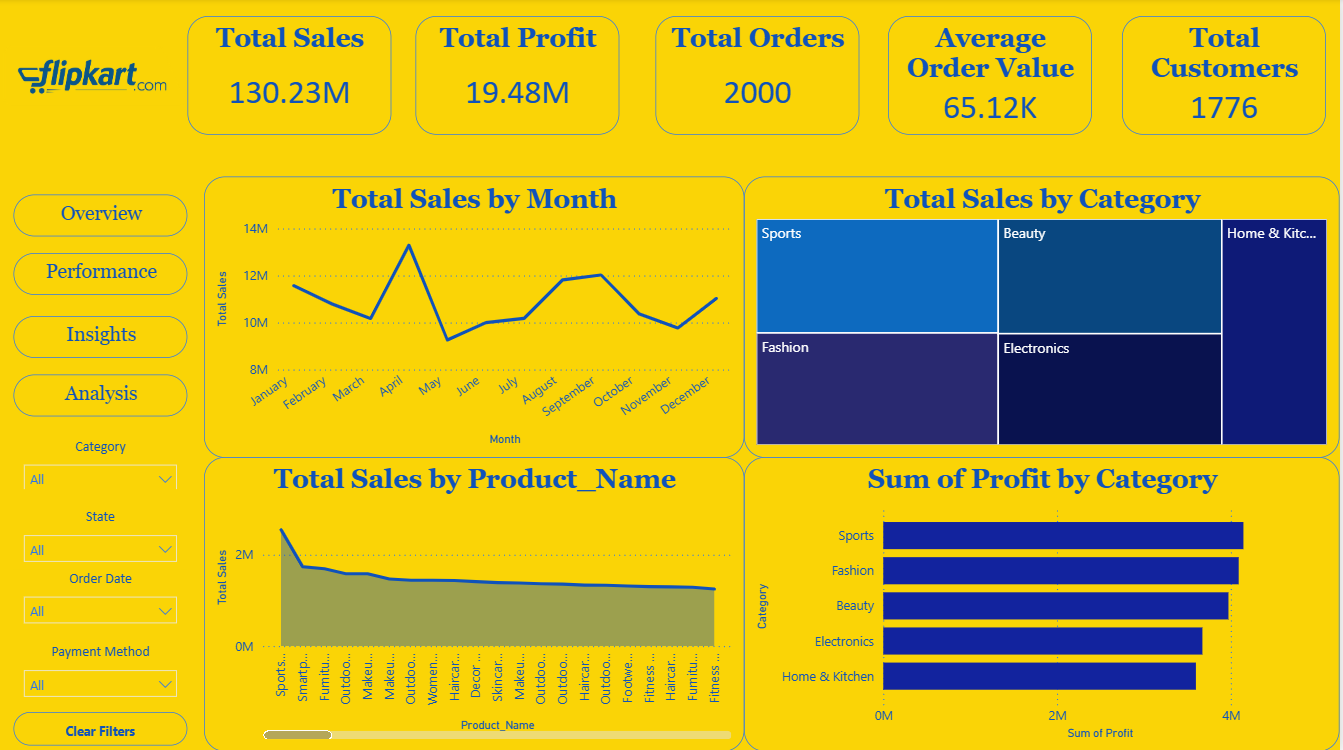

The page's visual inventory and layout, read from the dashboard file:
{"tool":"powerbi","page":{"name":"Overview","canvas":[1280,720],"ordinal":0},"visuals":[{"type":"card","title":"Total Sales","fields":{"Values":["Flipkart_Data.Total Sales"]},"box":[179.5,17,194.6,113.4],"z":0},{"type":"card","title":"Total Profit","fields":{"Values":["Flipkart_Data.Total Profit"]},"box":[396.9,17,194.6,113.4],"z":1000},{"type":"card","title":"Total Orders","fields":{"Values":["Flipkart_Data.Total Orders"]},"box":[625.5,17,194.6,113.4],"z":2000},{"type":"card","title":"Average Order Value","fields":{"Values":["Flipkart_Data.Average Order Value"]},"box":[848.5,17,194.6,113.4],"z":3000},{"type":"card","title":"Total Customers","fields":{"Values":["Flipkart_Data.Total Customers"]},"box":[1071.5,17,194.6,113.4],"z":4000},{"type":"lineChart","fields":{"Category":["Flipkart_Data.Order_Date.Variation.Date Hierarchy.Month"],"Y":["Flipkart_Data.Total Sales"]},"box":[194.6,170.1,515.9,268.3],"z":5000},{"type":"treemap","fields":{"Group":["Flipkart_Data.Category"],"Values":["Flipkart_Data.Total Sales"]},"box":[710.6,170.1,568.8,268.3],"z":6000},{"type":"areaChart","fields":{"Category":["Flipkart_Data.Product_Name"],"Y":["Flipkart_Data.Total Sales"]},"box":[194.6,438.4,515.9,281.6],"z":7000},{"type":"barChart","fields":{"Category":["Flipkart_Data.Category"],"Y":["Sum(Flipkart_Data.Profit)"]},"box":[710.6,438.4,568.8,281.6],"z":8000},{"type":"image","box":[0,0,179.5,149.3],"z":9000},{"type":"actionButton","title":"Overview","box":[13.2,187.1,166.3,39.7],"z":10000},{"type":"actionButton","title":"Performance","box":[13.2,243.8,166.3,39.7],"z":11000},{"type":"actionButton","title":"Analysis","box":[13.2,359.1,166.3,39.7],"z":12000},{"type":"actionButton","title":"Insights","box":[13.2,304.3,166.3,39.7],"z":13000},{"type":"slicer","title":"Category","fields":{"Values":["Flipkart_Data.Category"]},"box":[13.2,419.5,166.3,49.1],"z":14000},{"type":"slicer","title":"State","fields":{"Values":["Flipkart_Data.State"]},"box":[13.2,487.6,166.3,58.6],"z":15000},{"type":"slicer","title":"Order Date","fields":{"Values":["Flipkart_Data.Order_Date"]},"box":[13.2,546.1,166.3,66.1],"z":16000},{"type":"slicer","title":"Payment Method","fields":{"Values":["Flipkart_Data.Payment_Method"]},"box":[13.2,616.1,166.3,66.1],"z":17000},{"type":"actionButton","box":[13.2,682.2,166.3,32.1],"z":18000}]}

Visuals, with their boxes in screenshot pixels (x1, y1, x2, y2), scaled from the page's 1280x720 canvas onto the 1343x750 screenshot:
"Total Sales" card: rect(188, 18, 393, 136)
"Total Profit" card: rect(416, 18, 621, 136)
"Total Orders" card: rect(656, 18, 860, 136)
"Average Order Value" card: rect(890, 18, 1094, 136)
"Total Customers" card: rect(1124, 18, 1328, 136)
lineChart - Flipkart_Data.Order_Date.Variation.Date Hierarchy.Month x Flipkart_Data.Total Sales: rect(204, 177, 745, 457)
treemap - Flipkart_Data.Category x Flipkart_Data.Total Sales: rect(746, 177, 1342, 457)
areaChart - Flipkart_Data.Product_Name x Flipkart_Data.Total Sales: rect(204, 457, 745, 749)
barChart - Flipkart_Data.Category x Sum(Flipkart_Data.Profit): rect(746, 457, 1342, 749)
image: rect(0, 0, 188, 156)
"Overview" actionButton: rect(14, 195, 188, 236)
"Performance" actionButton: rect(14, 254, 188, 295)
"Analysis" actionButton: rect(14, 374, 188, 415)
"Insights" actionButton: rect(14, 317, 188, 358)
"Category" slicer: rect(14, 437, 188, 488)
"State" slicer: rect(14, 508, 188, 569)
"Order Date" slicer: rect(14, 569, 188, 638)
"Payment Method" slicer: rect(14, 642, 188, 711)
actionButton: rect(14, 711, 188, 744)
